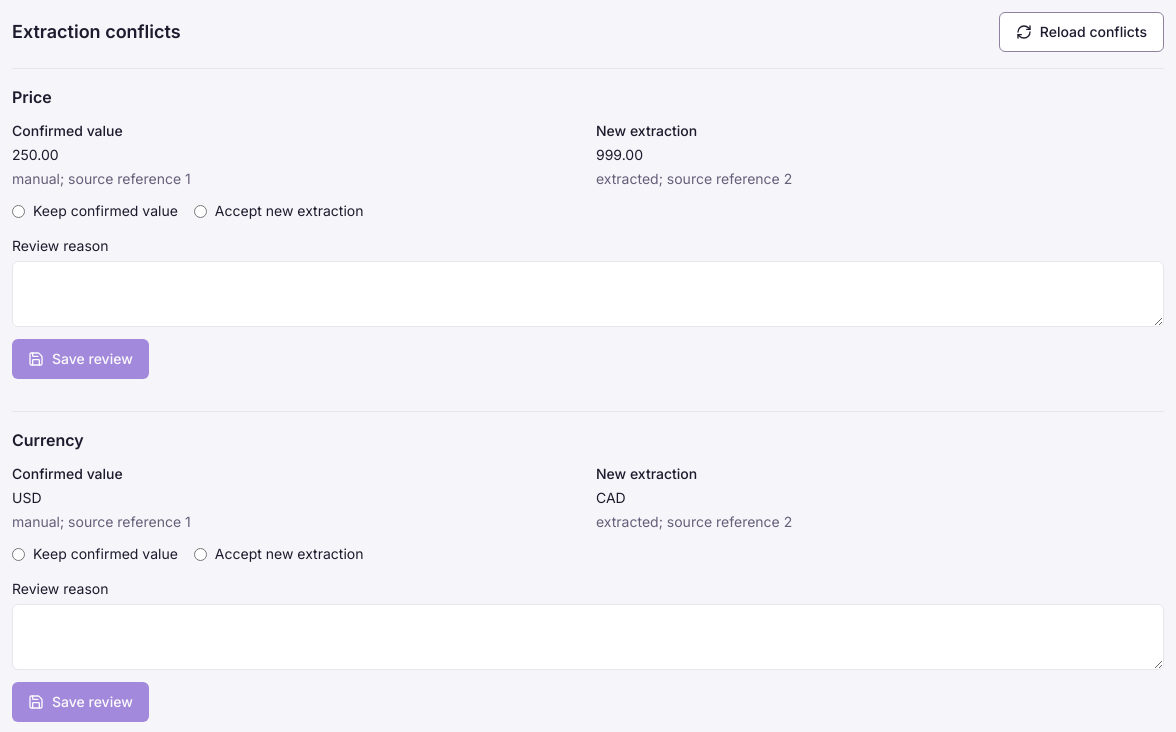
preserves sibling choices and reasons while their exact review token is unchanged
Check: the text "CAD" is shown, box [596,489,626,506]
Click the radio button labelled "Accept new extraction" below "USD" at (200, 554), box [194,548,207,560]
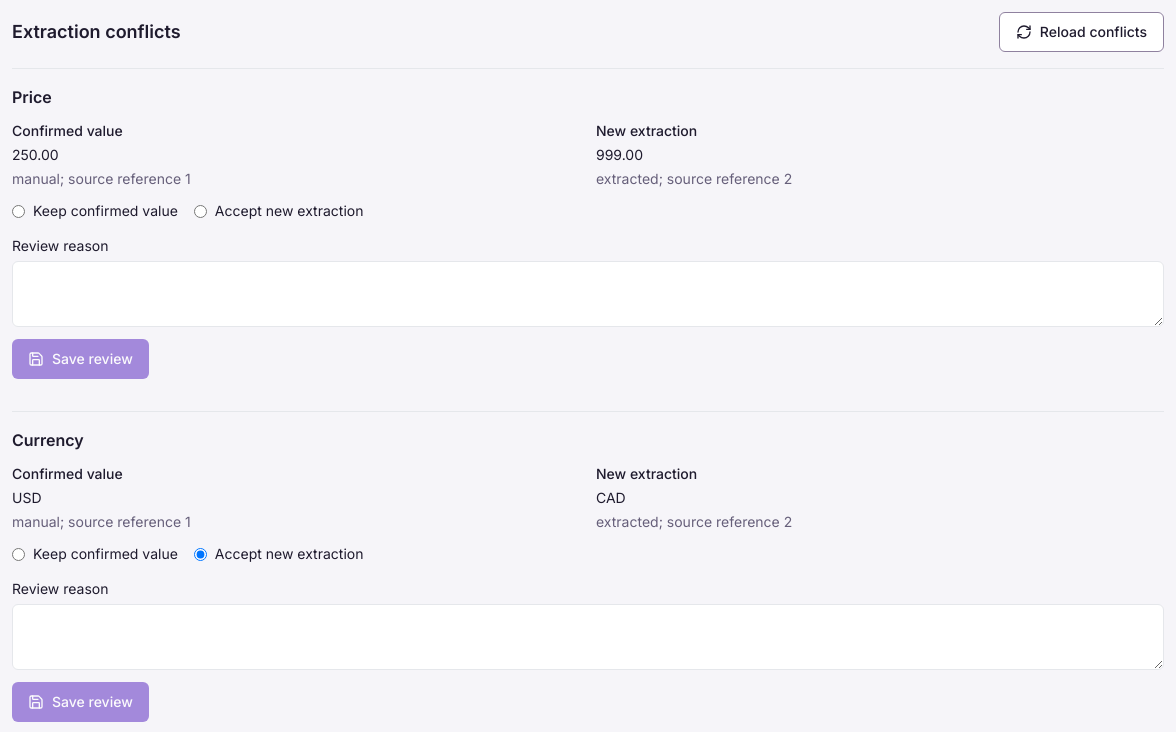
Type "Confirmed same CAD evidence" into the text box labelled "Review reason" below "USD" at (588, 637), box [12,604,1164,670]
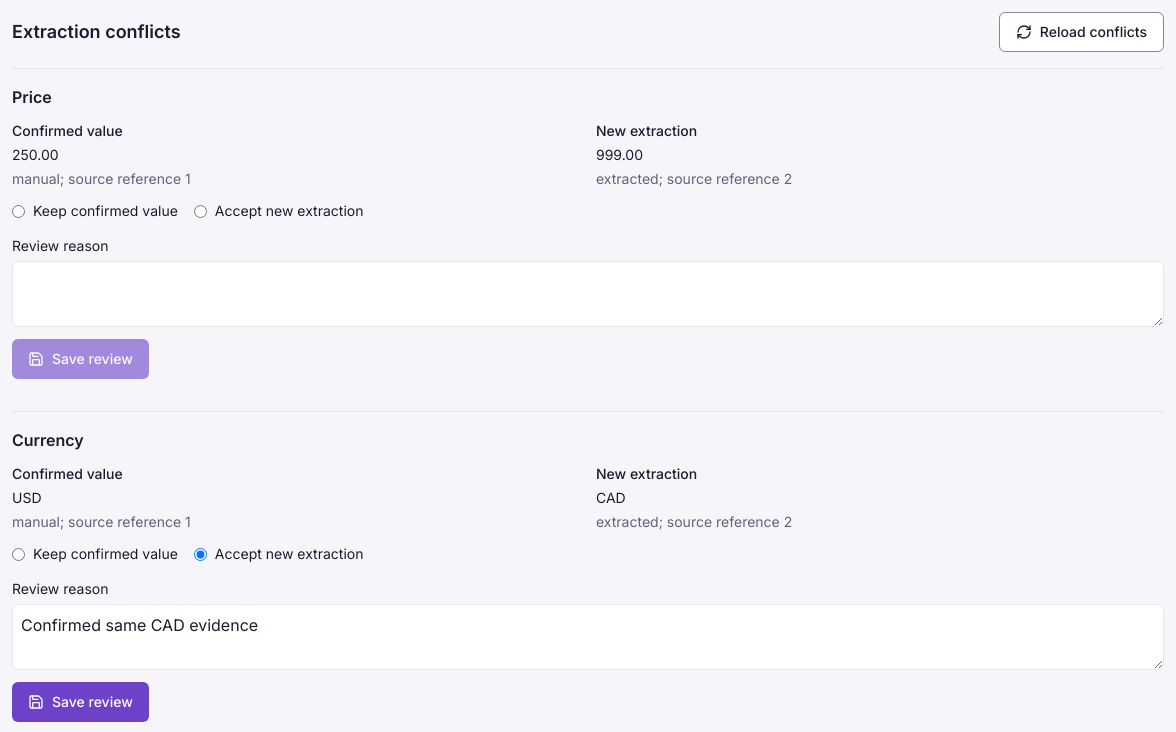
Click the radio button labelled "Accept new extraction" below "250.00" at (200, 211), box [194,204,207,218]
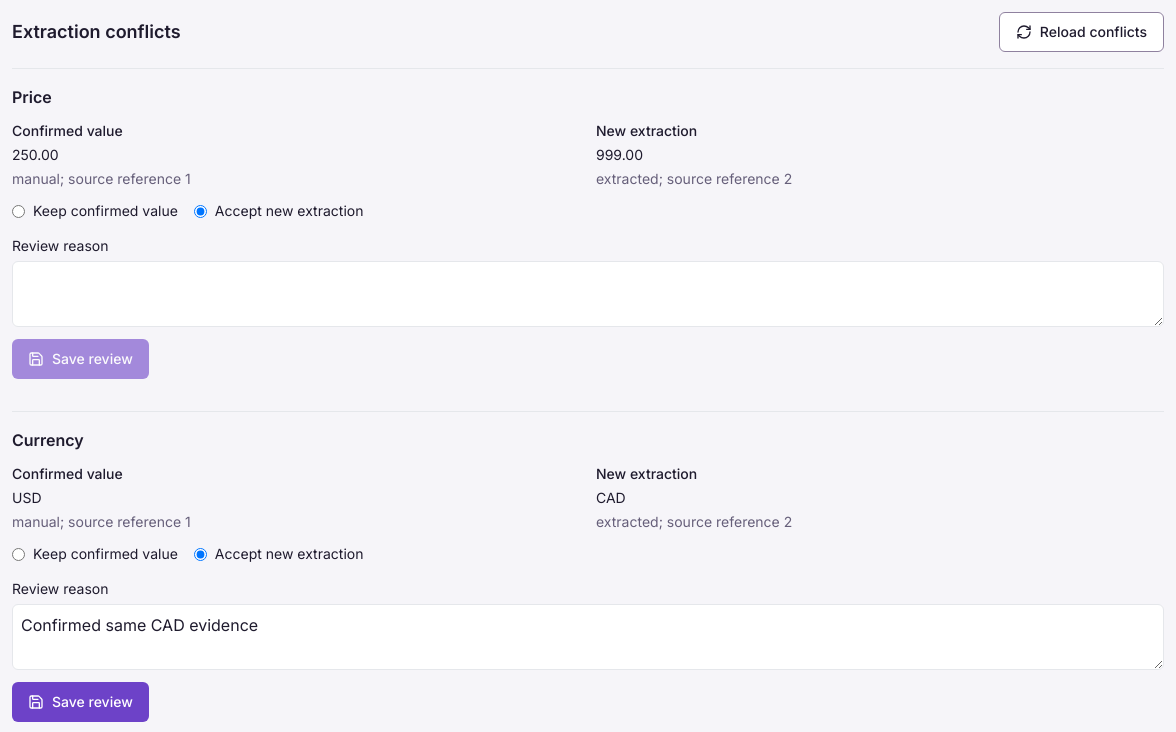
Type "Checked price" into the text box labelled "Review reason" below "250.00" at (588, 294), box [12,261,1164,327]
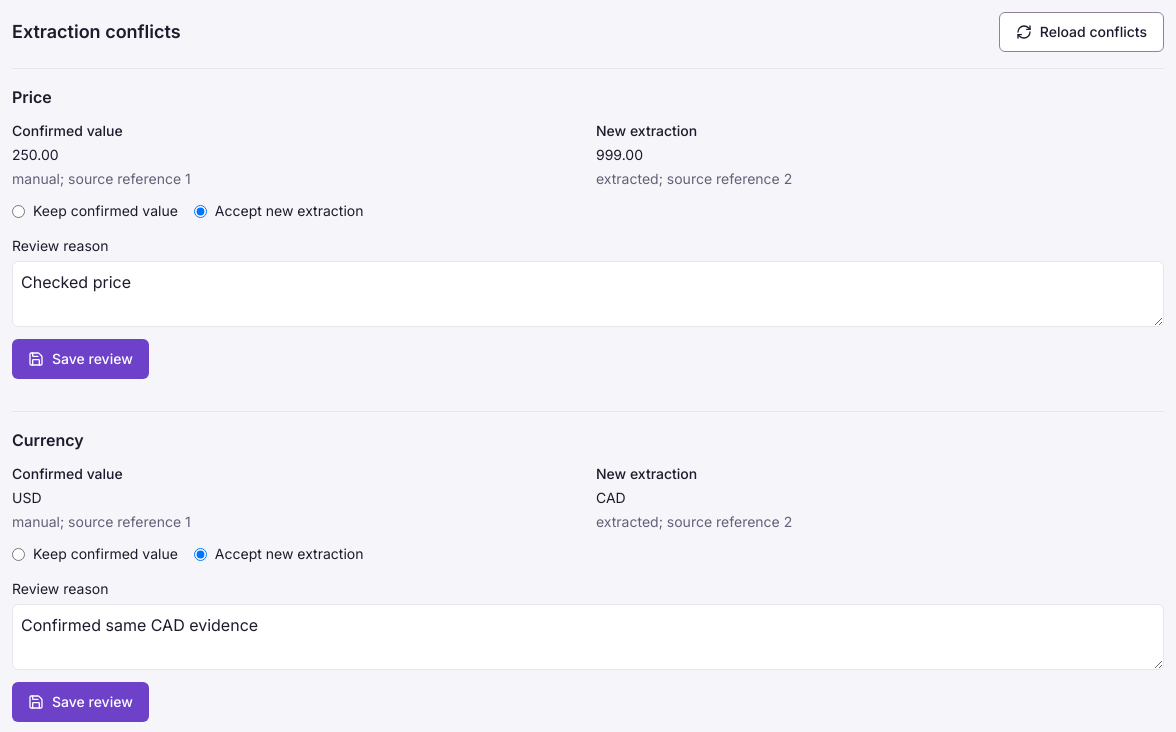
Click the button "Save review" below "250.00" at (80, 359), box [12,339,149,379]
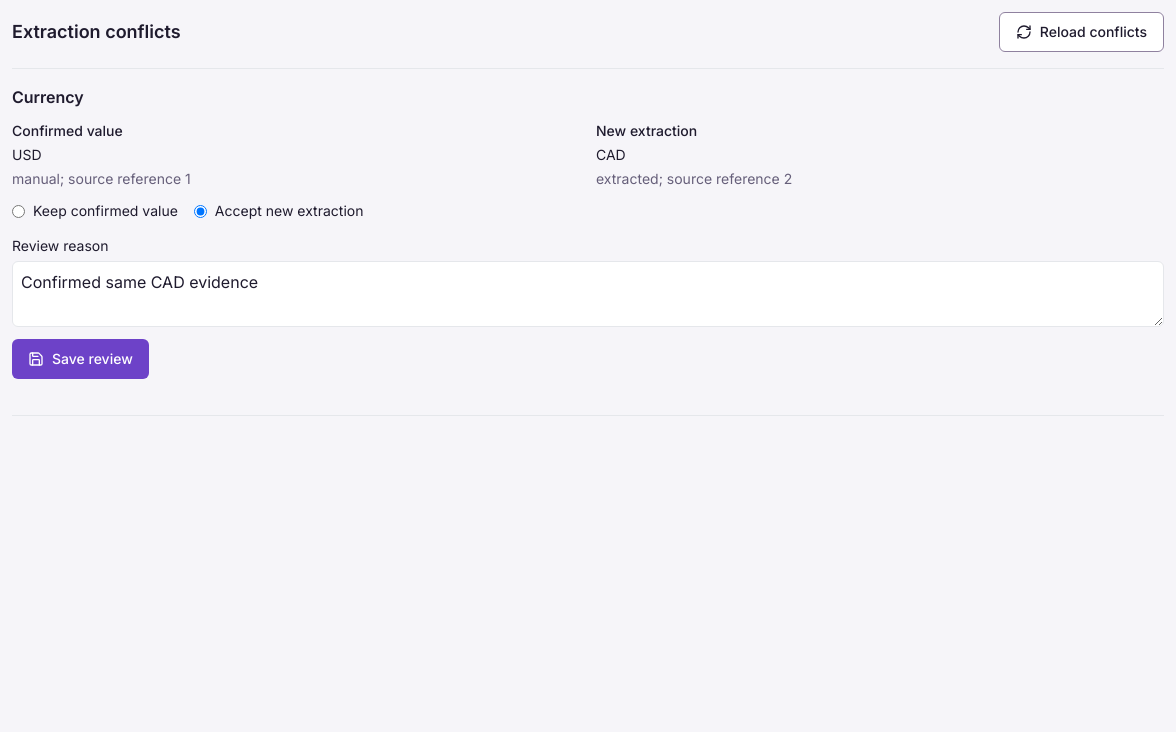
Check: the radio button labelled "Accept new extraction" is checked, box [194,204,207,218]
Check: the heading "price" is gone
